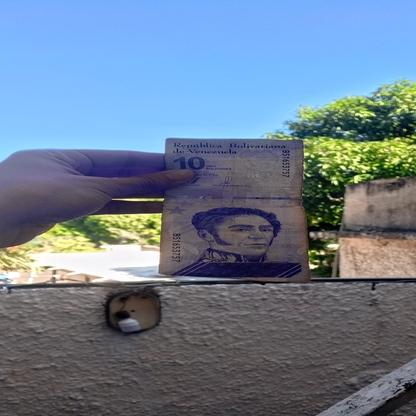ten-front-vef: (160, 138, 310, 285)
